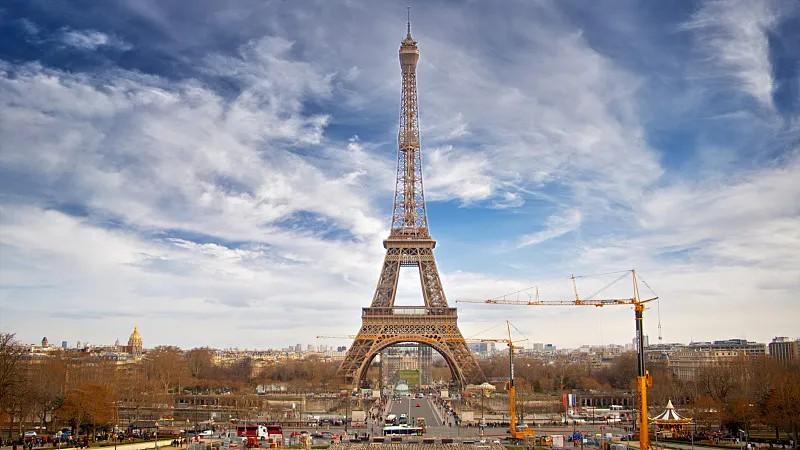Eiffel: (335, 8, 488, 389)
